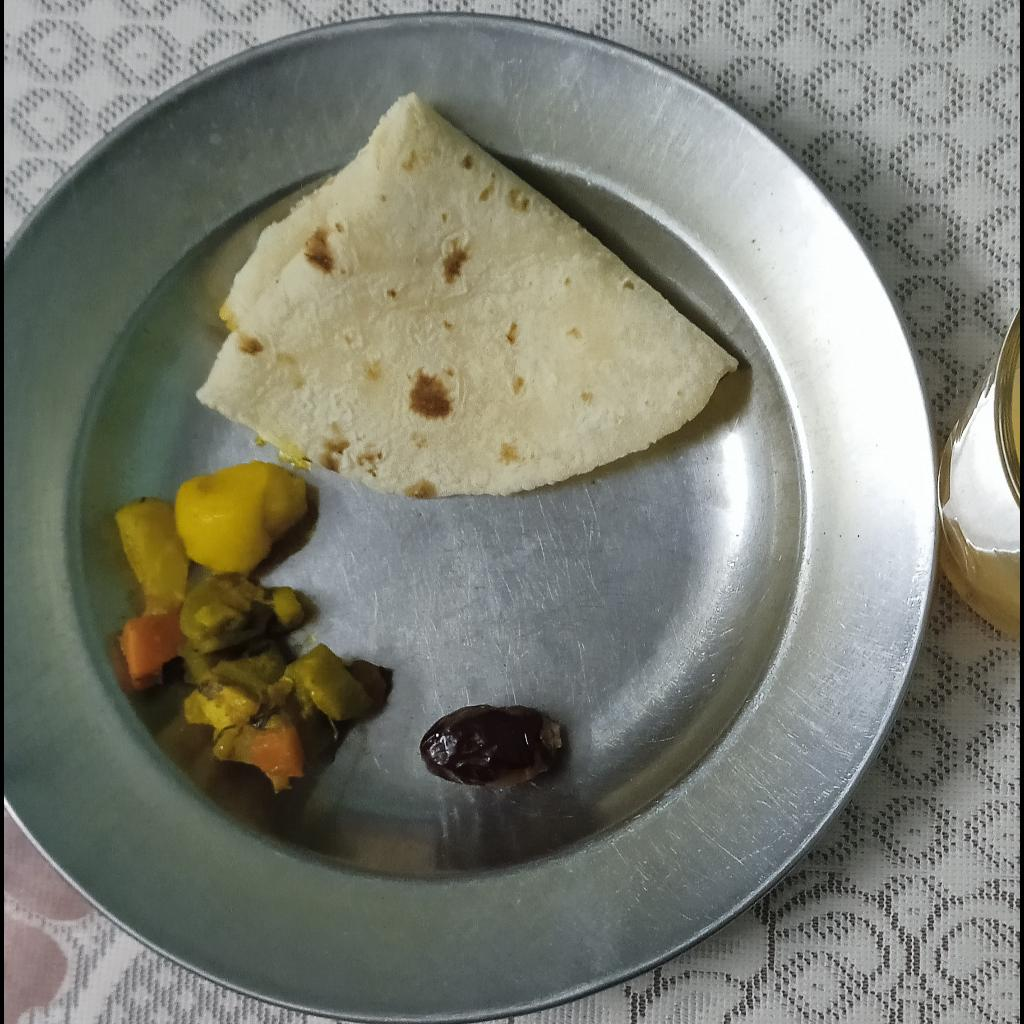dates: (421, 703, 559, 789)
ruti: (196, 92, 737, 497)
vegetable: (114, 460, 386, 796)
